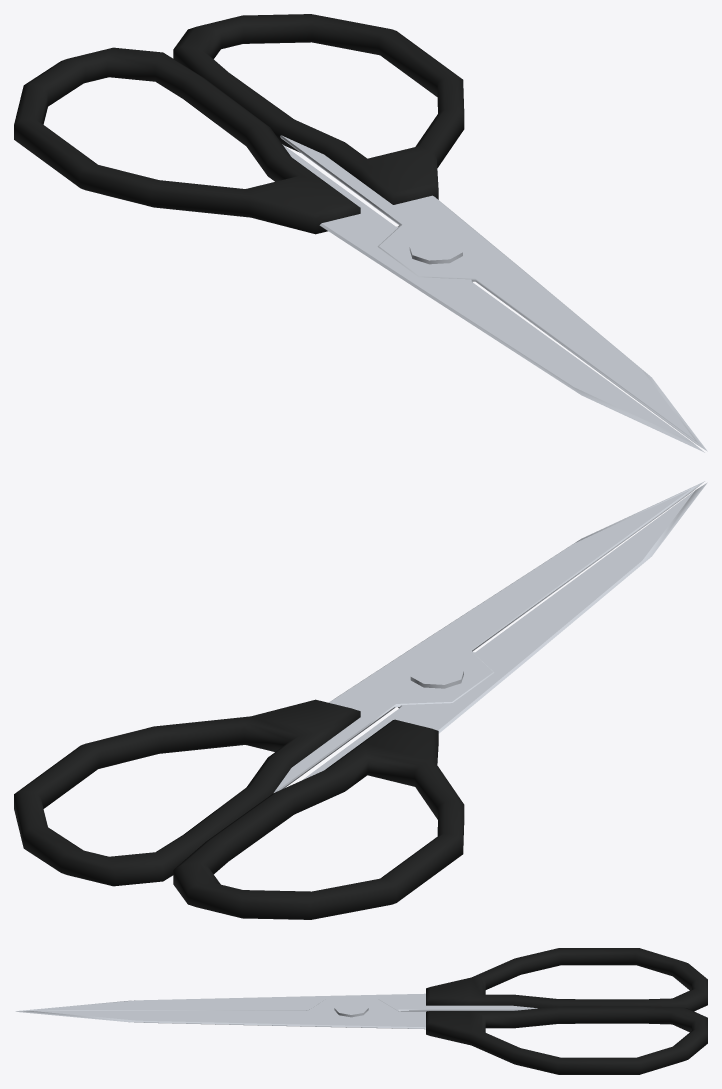
File: Scissors.glb
The picture shows the model from 3 angles, top to bottom: view 1: azimuth 30°, elevation 25°; view 2: azimuth 150°, elevation 25°; view 3: azimuth 270°, elevation 25°; orthographic projection. The views are drawn at different scales.
Visible parts, largest first — view 1: misc_scissors_Cube.020; view 2: misc_scissors_Cube.020; view 3: misc_scissors_Cube.020.
Boxes of the visible parts, left/top/right/bottom form: misc_scissors_Cube.020: left=14, top=14, right=707, bottom=452; misc_scissors_Cube.020: left=14, top=481, right=707, bottom=919; misc_scissors_Cube.020: left=15, top=948, right=707, bottom=1074.
Size of the model in its own units: 1.38 by 0.0795 by 3.48.
Materials: 1 (1 with a texture image).
